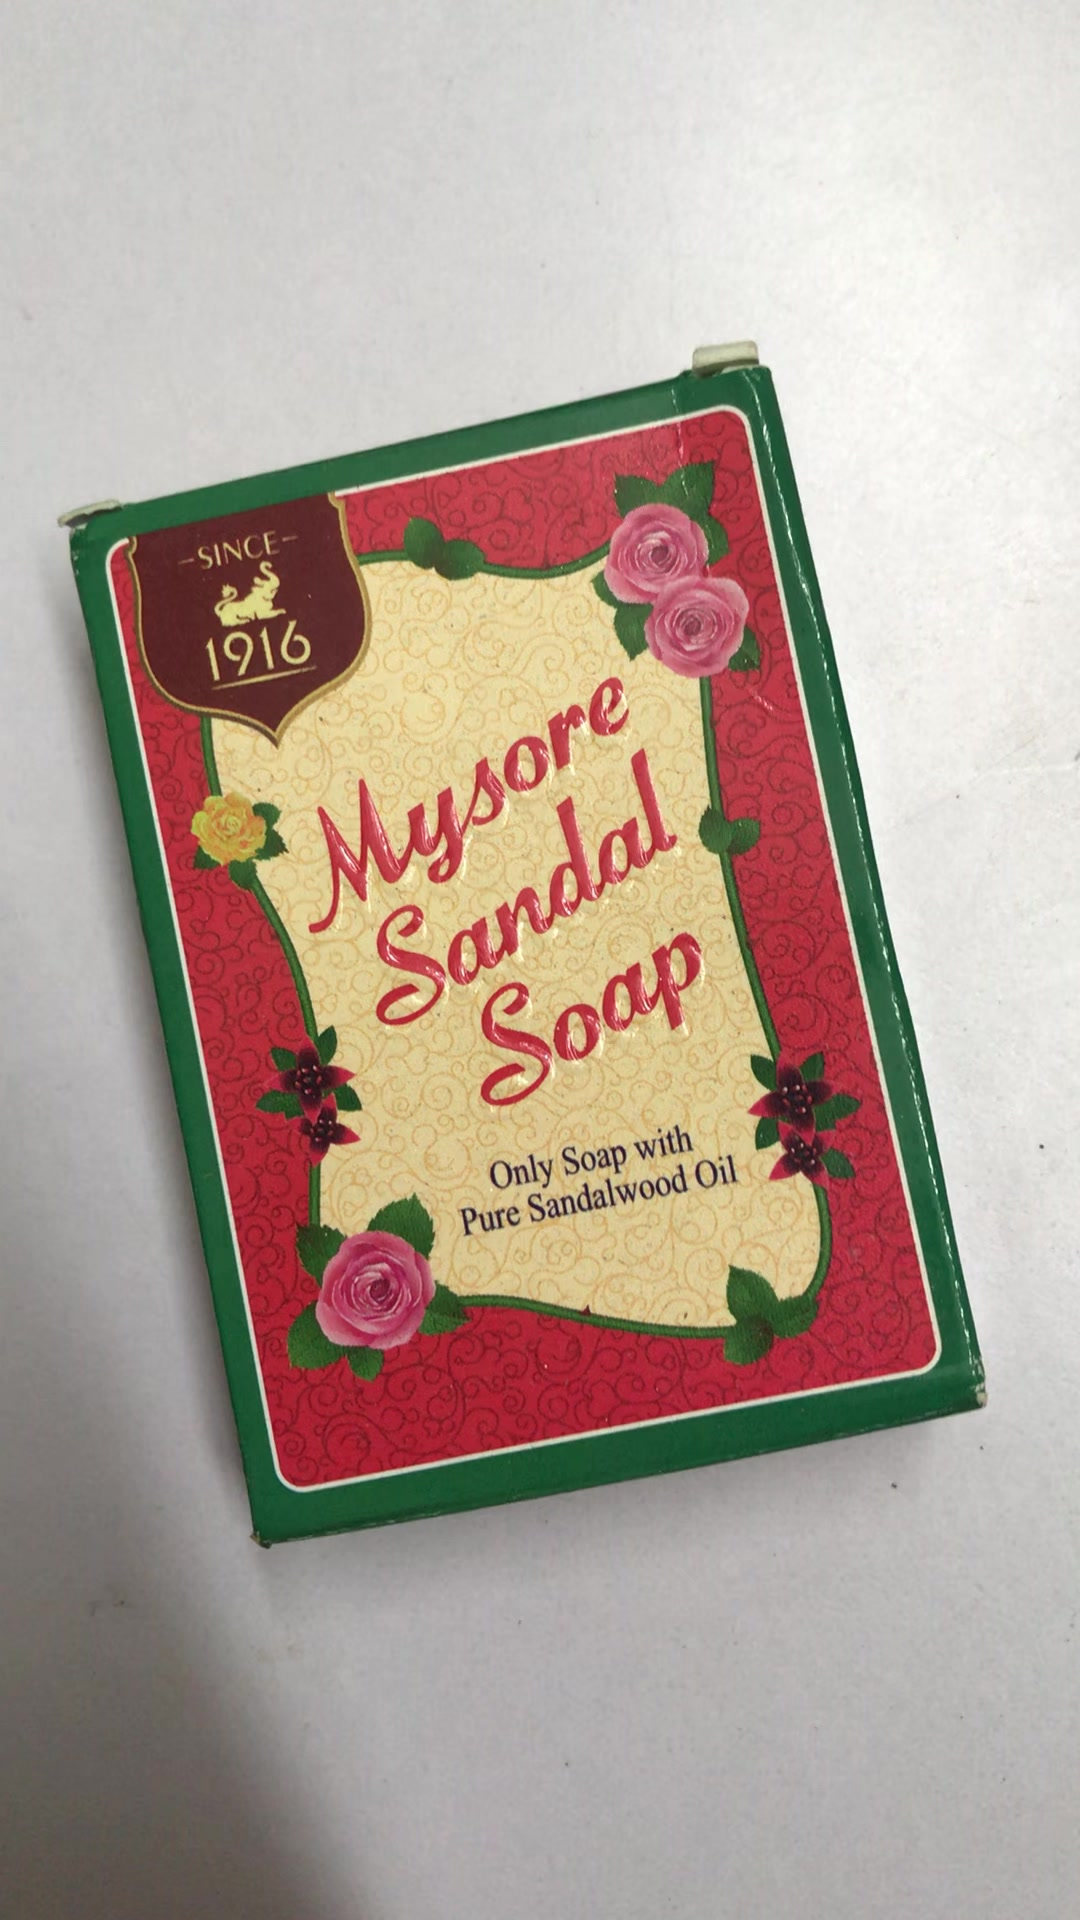mysore sandal soap: (70, 378, 988, 1548)
